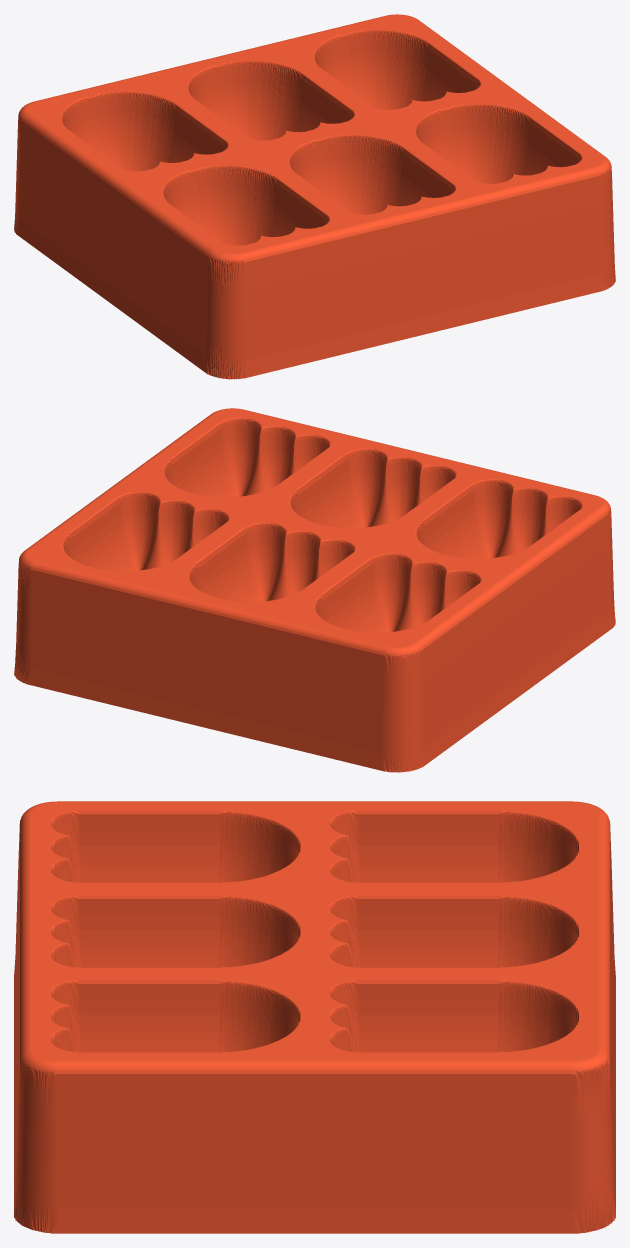
File: mold.glb
3 views of the same model, one above another, from view 1: azimuth 30°, elevation 25°; view 2: azimuth 150°, elevation 25°; view 3: azimuth 270°, elevation 25° (orthographic). The views are drawn at different scales.
Visible parts, largest first — view 1: geometry_0; view 2: geometry_0; view 3: geometry_0.
Part boxes in pixels (bbox=[...]): geometry_0: bbox=[14, 14, 615, 379]; geometry_0: bbox=[14, 408, 615, 772]; geometry_0: bbox=[14, 801, 615, 1233].
Size of the model in its own units: 0.1338 by 0.0377 by 0.1246.
